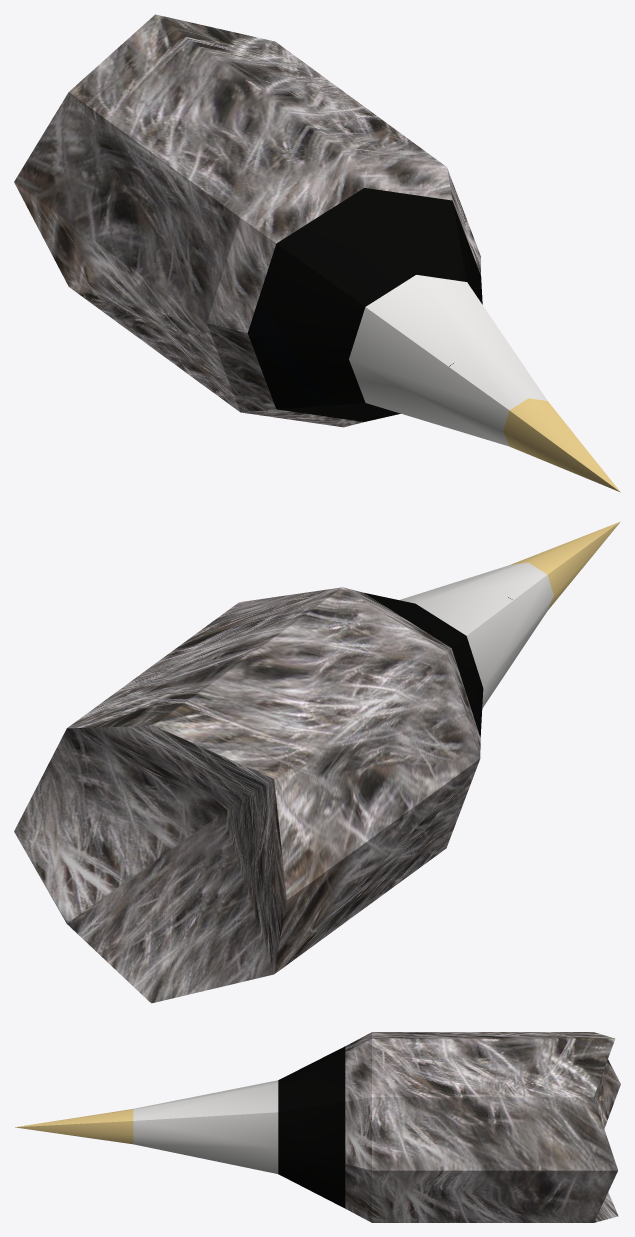
File: dart.fbx
The picture shows the model from 3 angles, top to bottom: view 1: azimuth 30°, elevation 25°; view 2: azimuth 150°, elevation 25°; view 3: azimuth 270°, elevation 25°; orthographic projection. The views are drawn at different scales.
Visible parts, largest first — view 1: Spike; view 2: Spike; view 3: Spike.
Boxes of the visible parts, box(x1,y1,x2,y2) form: Spike: box(14, 14, 620, 492); Spike: box(14, 521, 620, 1003); Spike: box(15, 1032, 620, 1222).
Size of the model in its own units: 23.92 by 22.94 by 71.03.
